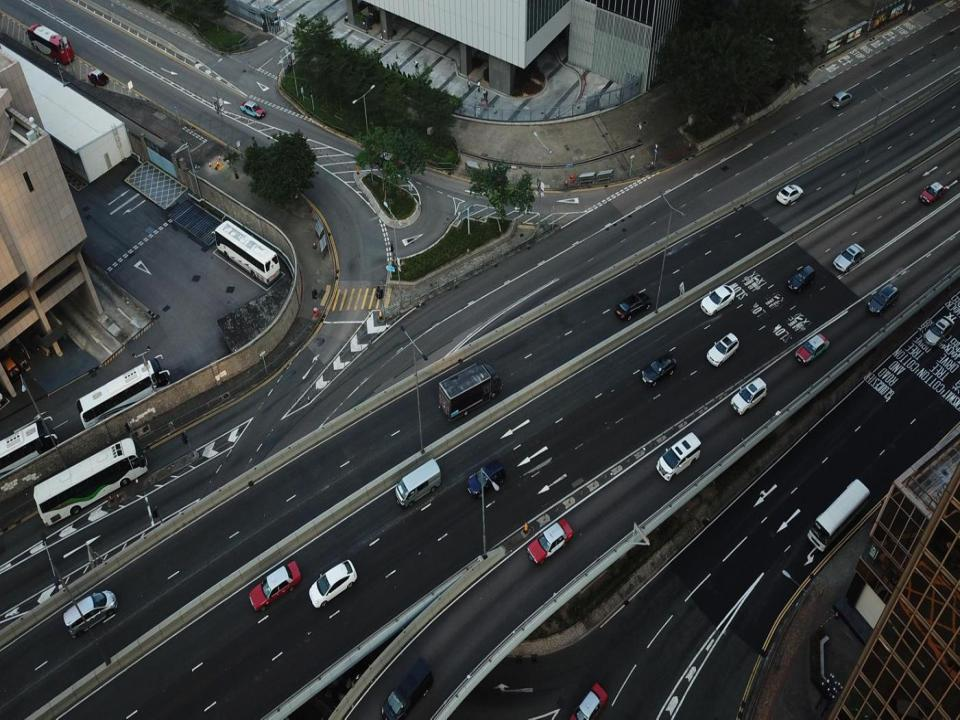bus: (33, 438, 151, 524), (74, 348, 170, 430), (809, 477, 868, 552), (215, 218, 278, 284), (440, 360, 506, 418), (2, 418, 50, 473), (25, 21, 73, 65)
car: (247, 560, 301, 610), (309, 560, 362, 606), (527, 516, 574, 565), (638, 348, 680, 387), (567, 684, 606, 718), (729, 378, 764, 415), (614, 290, 654, 322), (866, 281, 901, 316), (707, 332, 740, 369), (795, 332, 830, 364), (701, 285, 737, 314), (830, 244, 864, 270), (774, 180, 804, 207), (785, 265, 812, 291), (84, 66, 107, 90), (830, 86, 852, 110), (920, 182, 944, 204), (240, 99, 265, 117)
van: (382, 659, 438, 719), (61, 589, 119, 638), (653, 430, 701, 481), (393, 460, 443, 505), (464, 455, 506, 499)
